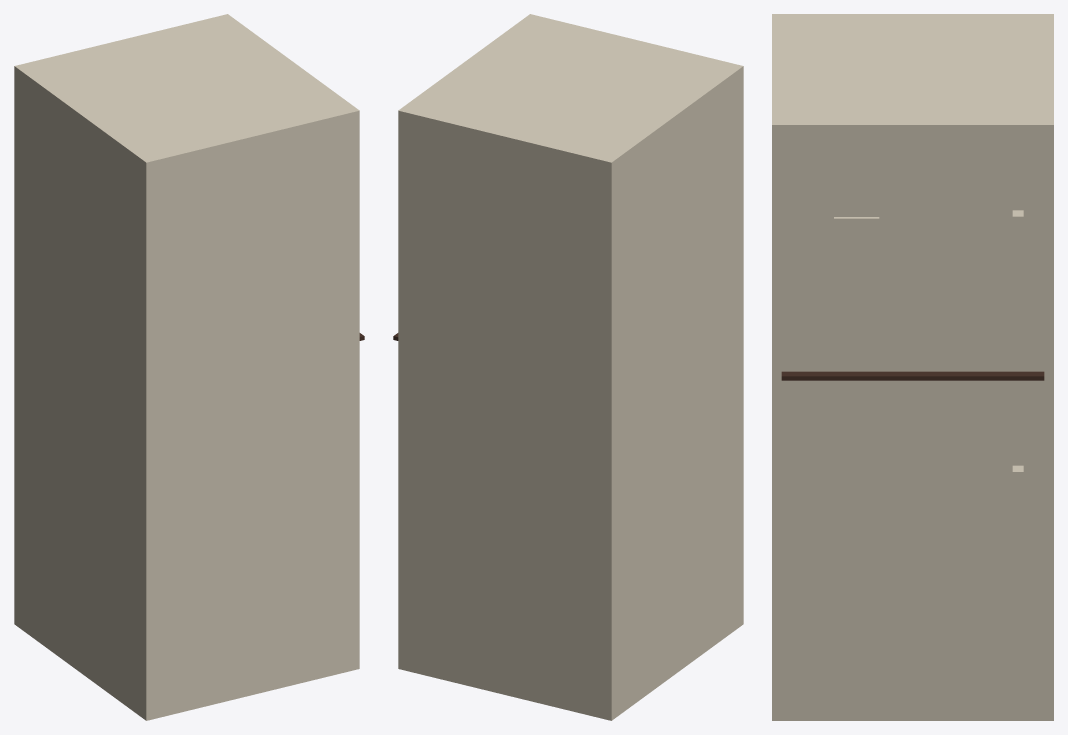
File: fridge.glb
3 renders of one model, left to right at view 1: azimuth 30°, elevation 25°; view 2: azimuth 150°, elevation 25°; view 3: azimuth 270°, elevation 25°, orthographic. The views are drawn at different scales.
Visible parts, largest first — view 1: Box1; view 2: Box1; view 3: Box1, Box4, Box5, Box2, Box3.
Part boxes in pixels (left/top/right/bottom): Box1: left=14, top=14, right=359, bottom=720; Box1: left=398, top=14, right=743, bottom=720; Box1: left=772, top=14, right=1053, bottom=720; Box4: left=781, top=371, right=1044, bottom=380; Box5: left=834, top=217, right=879, bottom=272; Box2: left=1012, top=210, right=1023, bottom=352; Box3: left=1012, top=465, right=1023, bottom=573.
Bounding box in the file's own units: 0.74 × 1.75 × 0.75.
